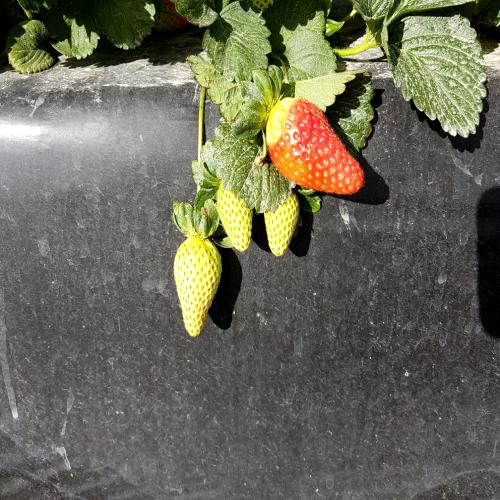ripe: (262, 75, 379, 218)
